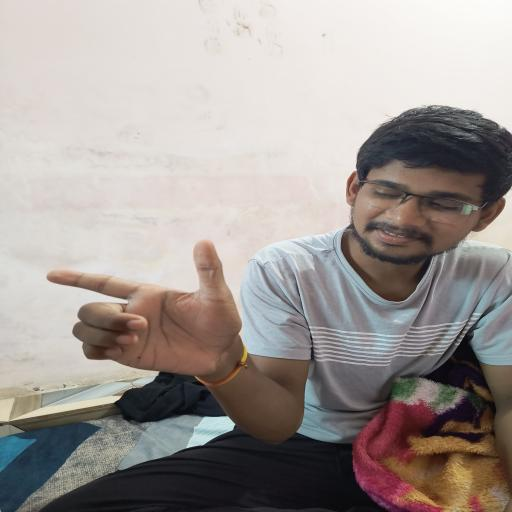Sorry: (28, 230, 278, 395)
